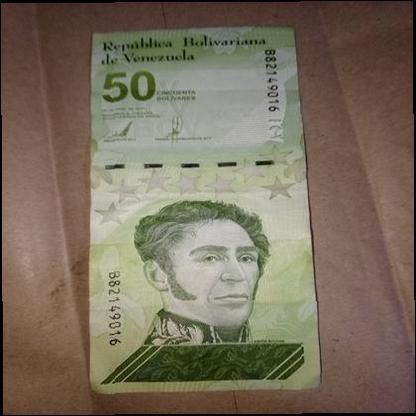fifty-front-vef: (88, 27, 320, 394)
